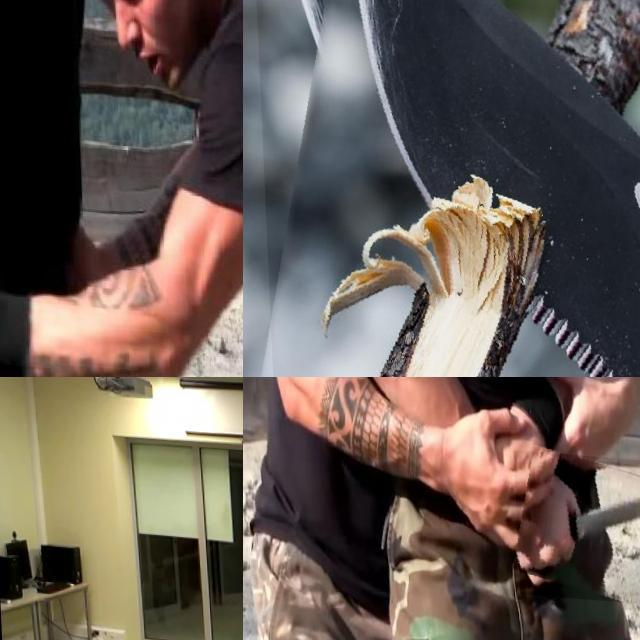-: (253, 0, 640, 377), (510, 445, 640, 598)
